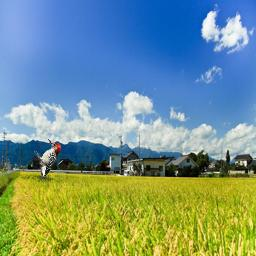Woodpecker: (32, 138, 62, 182)
